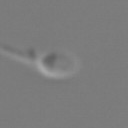abnormal: (1, 41, 39, 68)
